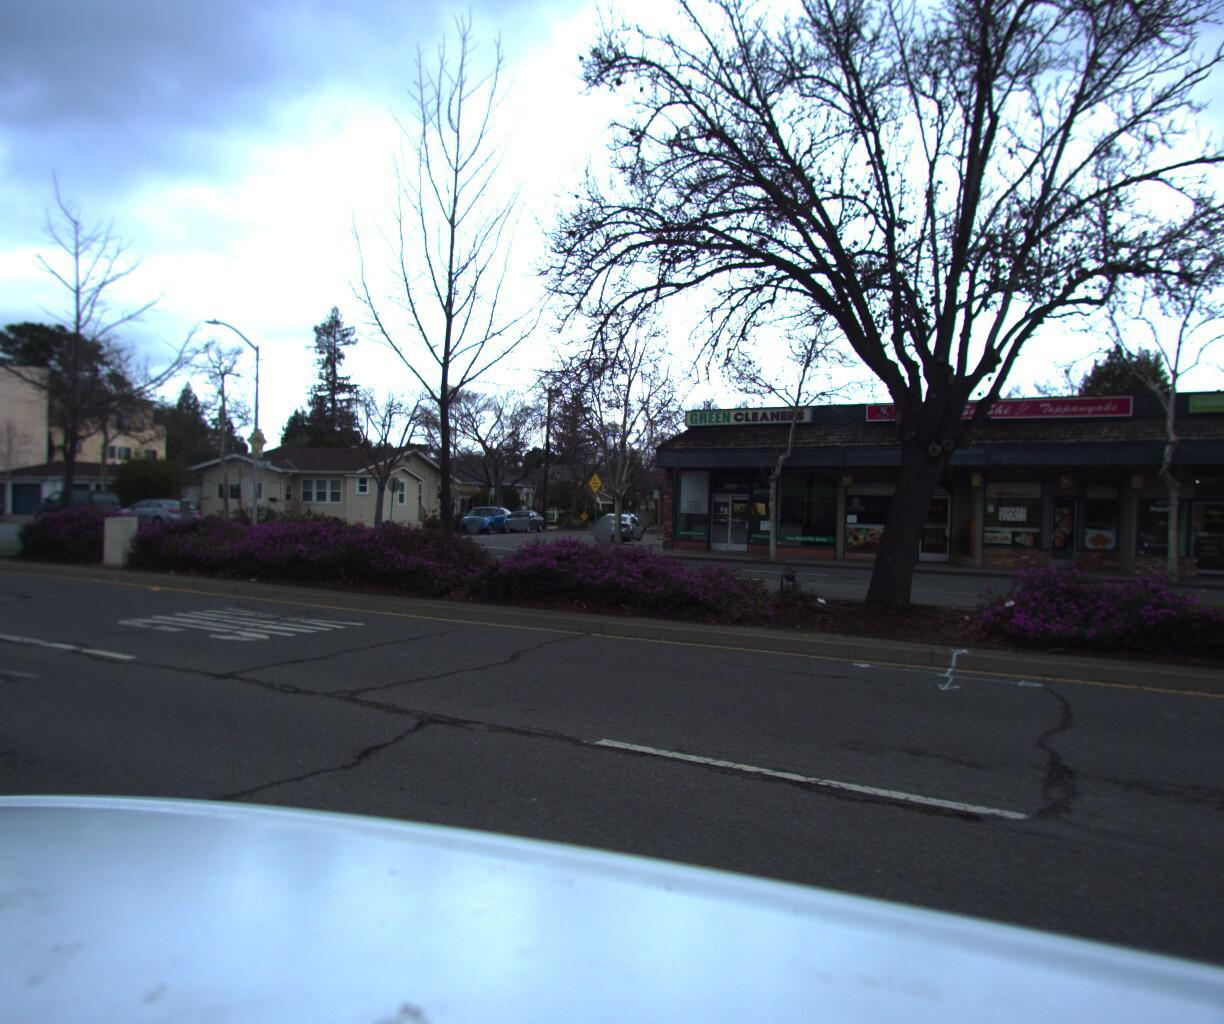car: (28, 484, 127, 522), (103, 492, 209, 526), (589, 506, 646, 538), (453, 499, 511, 530), (495, 503, 545, 530), (0, 490, 4, 517)
